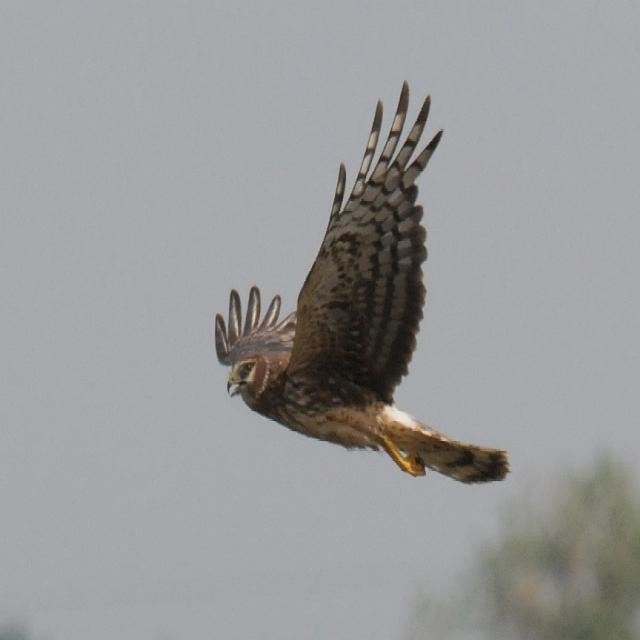bird: (201, 87, 520, 495)
